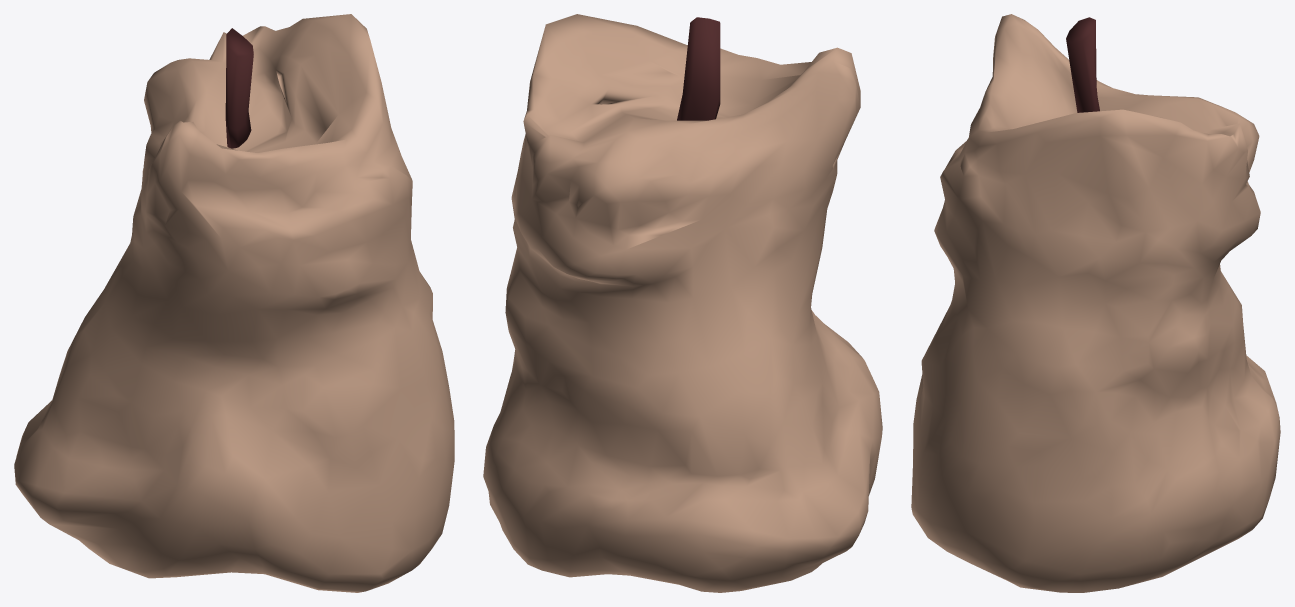
The model's file is candle3.fbx.
The picture shows the model from 3 angles, left to right: view 1: azimuth 30°, elevation 25°; view 2: azimuth 150°, elevation 25°; view 3: azimuth 270°, elevation 25°; orthographic projection. The views are drawn at different scales.
Visible parts, largest first — view 1: candle3; view 2: candle3; view 3: candle3.
Part boxes in pixels (left/top/right/bottom): candle3: left=14, top=14, right=454, bottom=592; candle3: left=483, top=14, right=882, bottom=592; candle3: left=911, top=14, right=1280, bottom=592.
Bounding box in the file's own units: 11.2 × 15.6 × 10.37.
